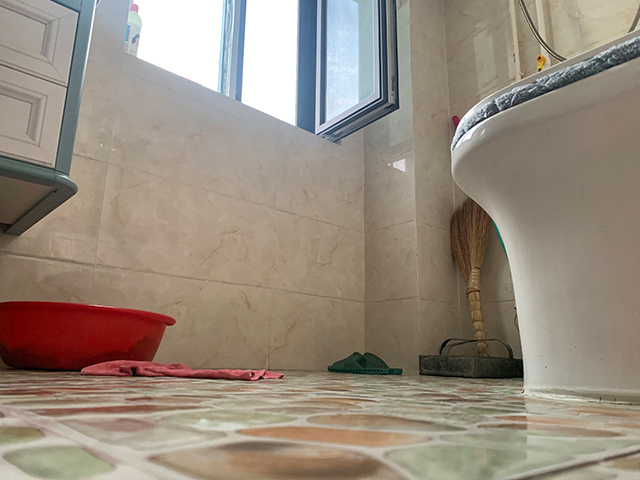closestool: (450, 27, 640, 404)
